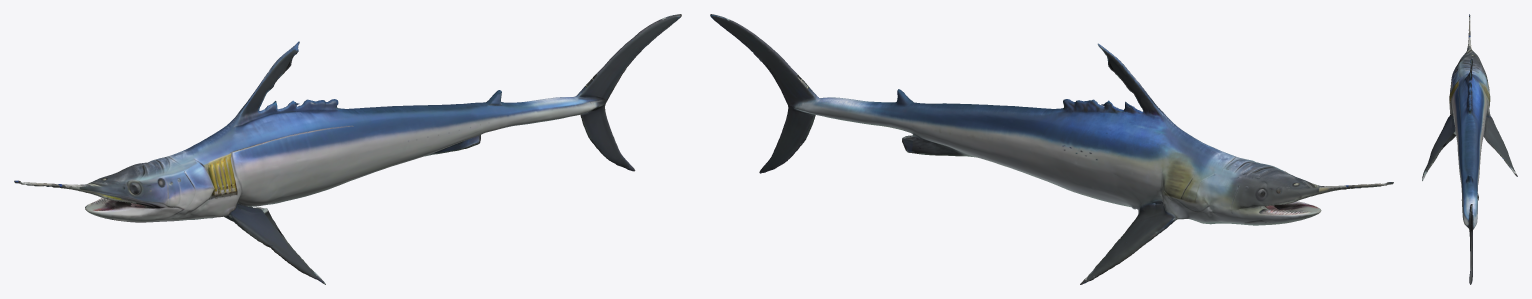
The model's file is swordfish.fbx.
3 renders of one model, left to right at view 1: azimuth 30°, elevation 25°; view 2: azimuth 150°, elevation 25°; view 3: azimuth 270°, elevation 25°, orthographic. The views are drawn at different scales.
Visible parts, largest first — view 1: Mesh_0; view 2: Mesh_0; view 3: Mesh_0.
Part boxes in pixels (x1,y1,x2,y2): Mesh_0: [14, 14, 681, 284]; Mesh_0: [710, 14, 1393, 284]; Mesh_0: [1422, 14, 1517, 284].
Bounding box in the file's own units: 200 × 59.83 × 40.74.
1 material, 1 textured.
